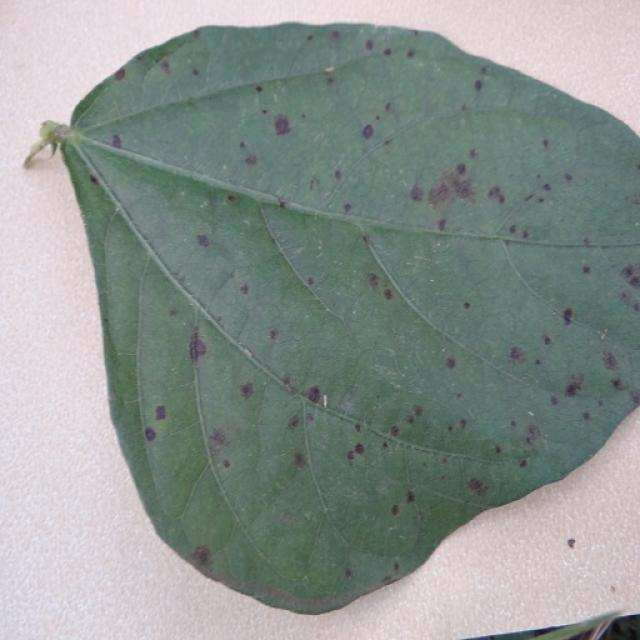Anthracnose: (185, 332, 223, 383), (428, 168, 476, 208), (366, 271, 396, 303), (187, 331, 208, 363), (428, 182, 450, 207), (190, 545, 210, 567), (272, 115, 291, 136), (209, 428, 228, 448), (347, 442, 365, 461), (305, 385, 322, 405), (488, 186, 505, 205), (467, 478, 485, 495), (564, 382, 582, 397), (409, 185, 424, 203), (509, 346, 525, 361), (240, 382, 254, 399), (562, 307, 574, 325), (196, 233, 211, 247), (361, 124, 374, 140), (287, 414, 300, 430), (293, 452, 306, 468), (155, 404, 167, 421), (367, 273, 380, 288), (245, 154, 258, 166), (437, 218, 446, 232), (612, 378, 623, 389), (342, 202, 352, 214), (239, 284, 249, 295), (406, 491, 415, 503), (277, 199, 287, 209), (567, 538, 576, 549), (347, 450, 356, 460), (326, 75, 335, 85), (226, 194, 235, 203), (634, 276, 640, 288)
Blackgram: (41, 24, 639, 612)
